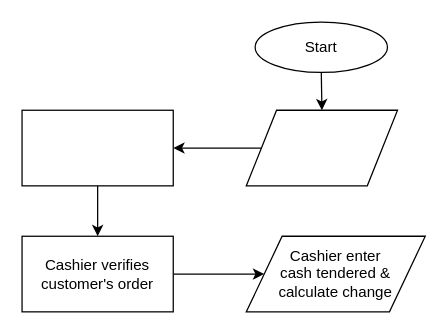
Image size: 447x334. Some labels were removed from this diagram. The shapes that lost their labels are listed below. From the top down, each one's box as (x1, y1, x2, y2) in pixels, then its label:
(21, 109, 173, 186): Order id searching in order database
(245, 109, 398, 186): Cashier puts order id for searching
